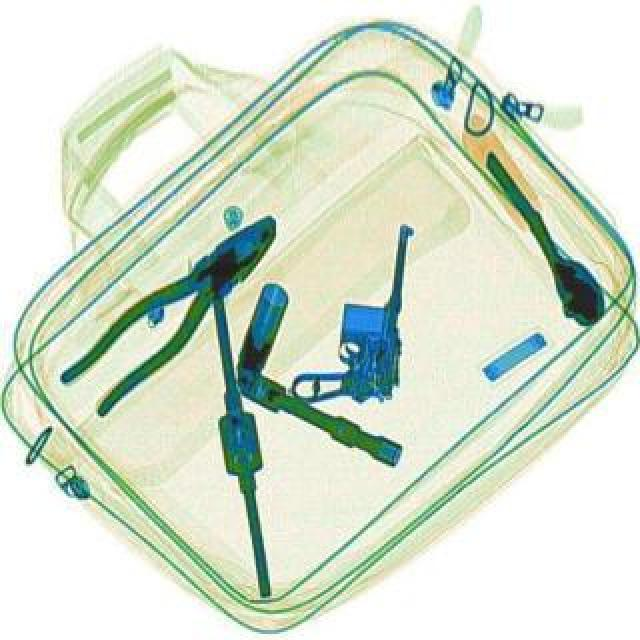gun: (290, 212, 416, 408)
wrench: (52, 196, 300, 416)
